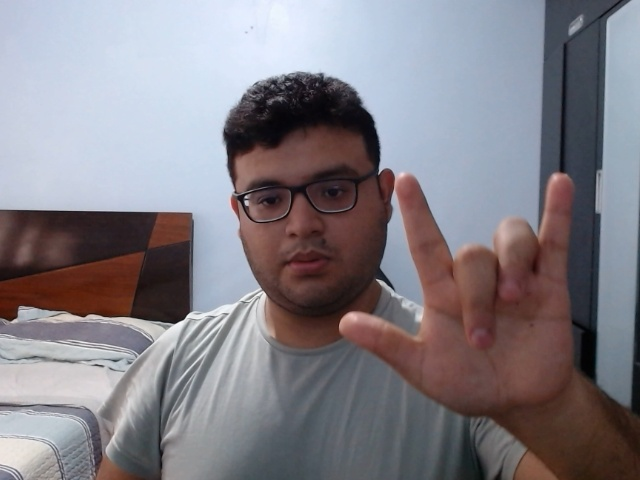I love you: (336, 169, 590, 426)
